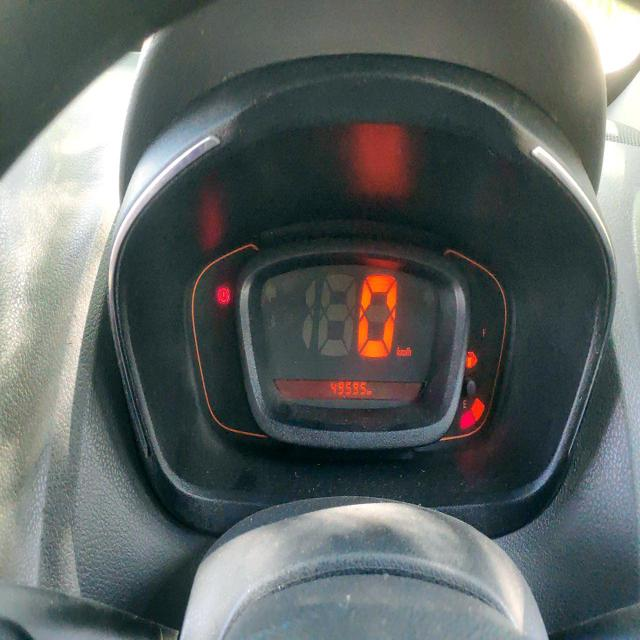odometer: (325, 380, 374, 400)
